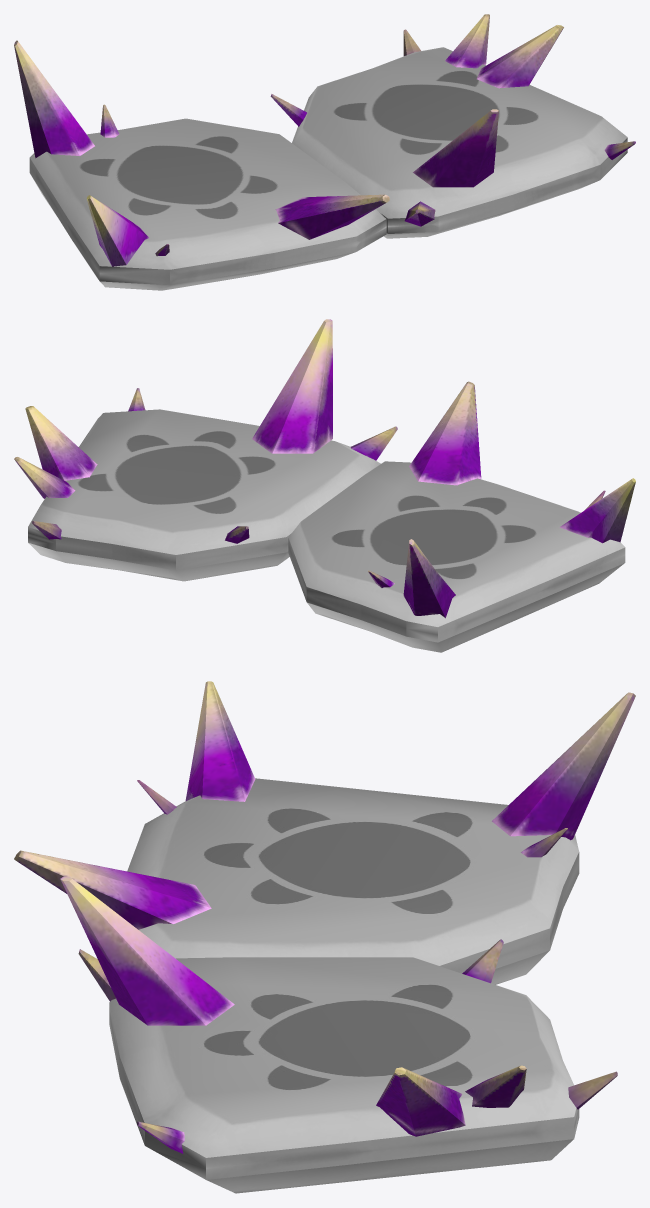
File: MDL_CorruptedTile_12SRing.fbx
3 renders of one model, top to bottom at view 1: azimuth 30°, elevation 25°; view 2: azimuth 150°, elevation 25°; view 3: azimuth 270°, elevation 25°, orthographic. The views are drawn at different scales.
Visible parts, largest first — view 1: Right_Wing_Tile, Left_Wing_Tile; view 2: Left_Wing_Tile, Right_Wing_Tile; view 3: Left_Wing_Tile, Right_Wing_Tile.
Part boxes in pixels (x1=…): Right_Wing_Tile: x1=14, y1=40, x2=389, y2=290; Left_Wing_Tile: x1=270, y1=14, x2=635, y2=238; Left_Wing_Tile: x1=14, y1=319, x2=397, y2=581; Right_Wing_Tile: x1=288, y1=381, x2=635, y2=652; Left_Wing_Tile: x1=60, y1=876, x2=617, y2=1193; Right_Wing_Tile: x1=14, y1=681, x2=635, y2=984.
Size of the model in its own units: 254 by 62.1 by 176.
